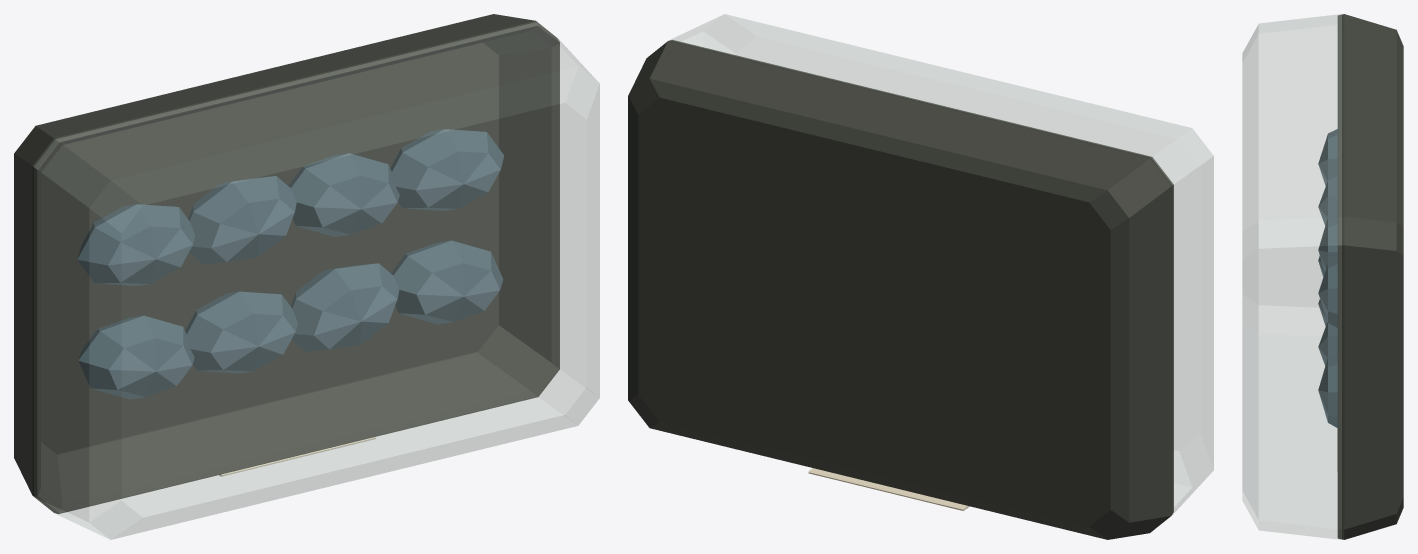
The model's file is mussels.glb.
The picture shows the model from 3 angles, left to right: view 1: azimuth 30°, elevation 25°; view 2: azimuth 150°, elevation 25°; view 3: azimuth 270°, elevation 25°; orthographic projection. The views are drawn at different scales.
Visible parts, largest first — view 1: mussels; view 2: mussels; view 3: mussels.
Part boxes in pixels (box(x1,y1,x2,y2)): mussels: box(14, 14, 599, 539); mussels: box(628, 14, 1213, 539); mussels: box(1242, 14, 1403, 539).
Bounding box in the file's own units: 0.22 × 0.152 × 0.068.
